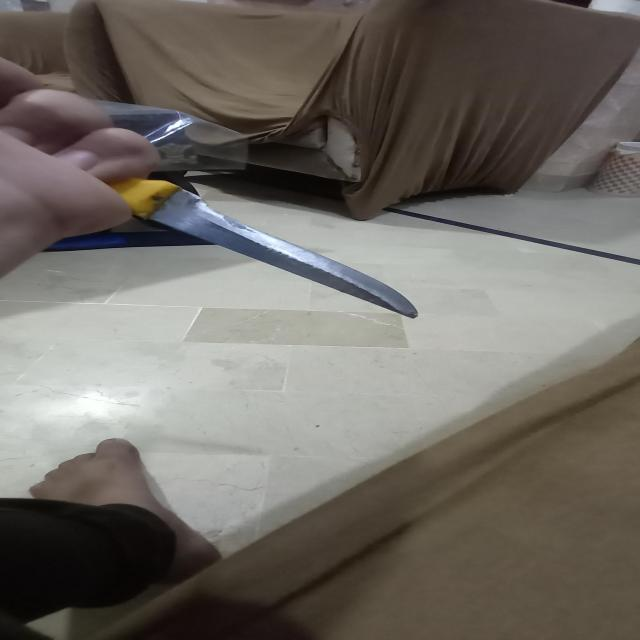weapon: (108, 174, 417, 320)
